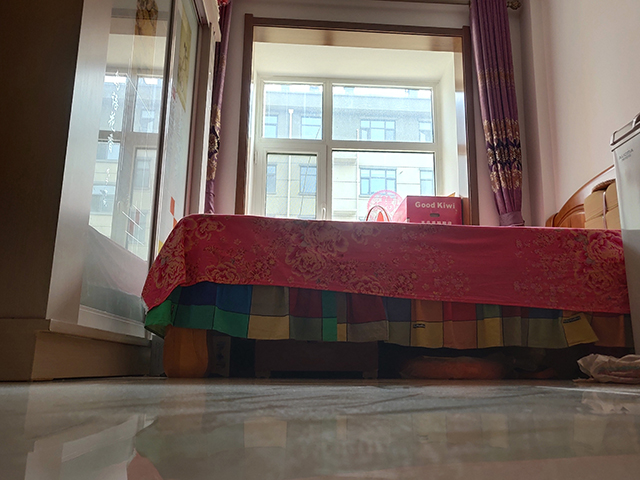bed: (140, 163, 639, 380)
cabinet: (1, 1, 225, 385)
curtain: (467, 1, 527, 226)
